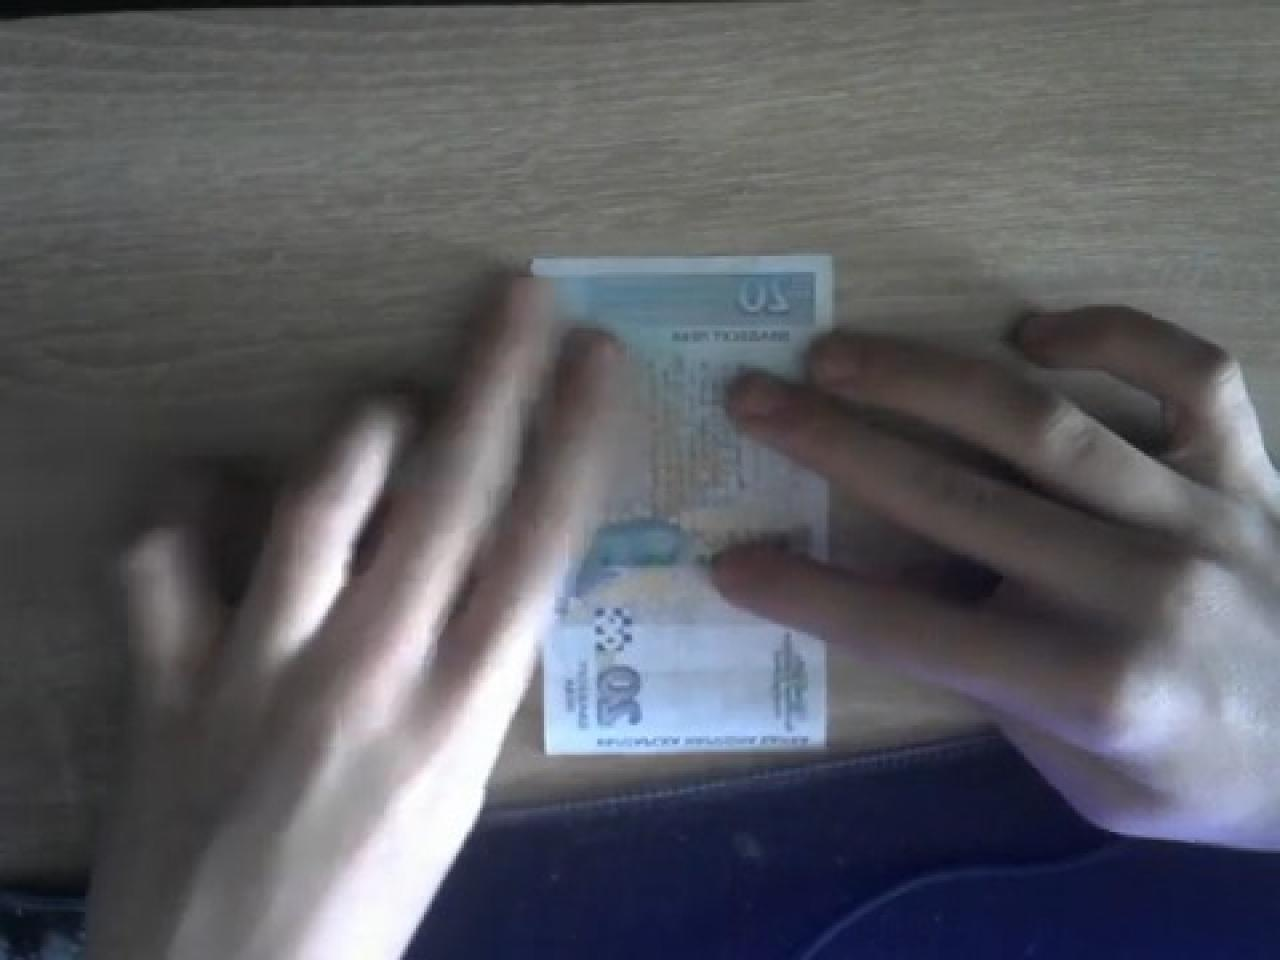20leva: (515, 253, 840, 792)
